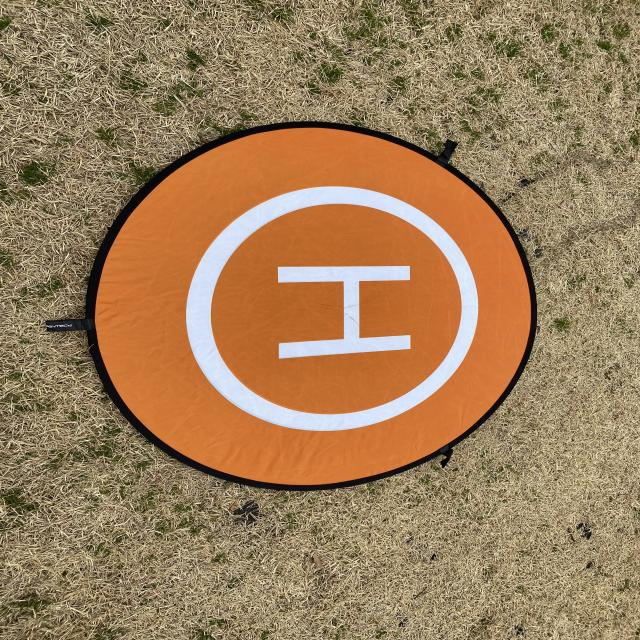helipad: (178, 180, 494, 438)
